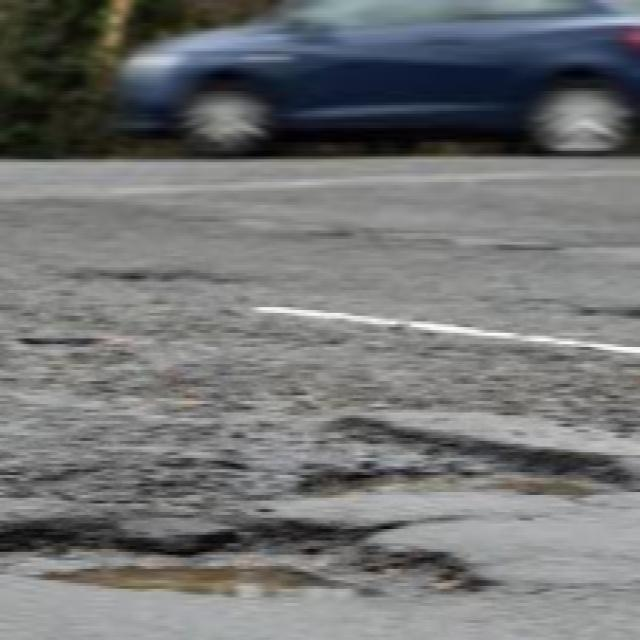Pothole: (0, 410, 640, 640), (90, 260, 250, 291), (12, 326, 114, 353), (577, 300, 640, 332)
